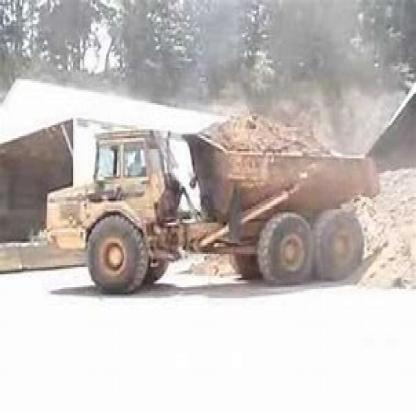dump_truck: (43, 114, 375, 302)
